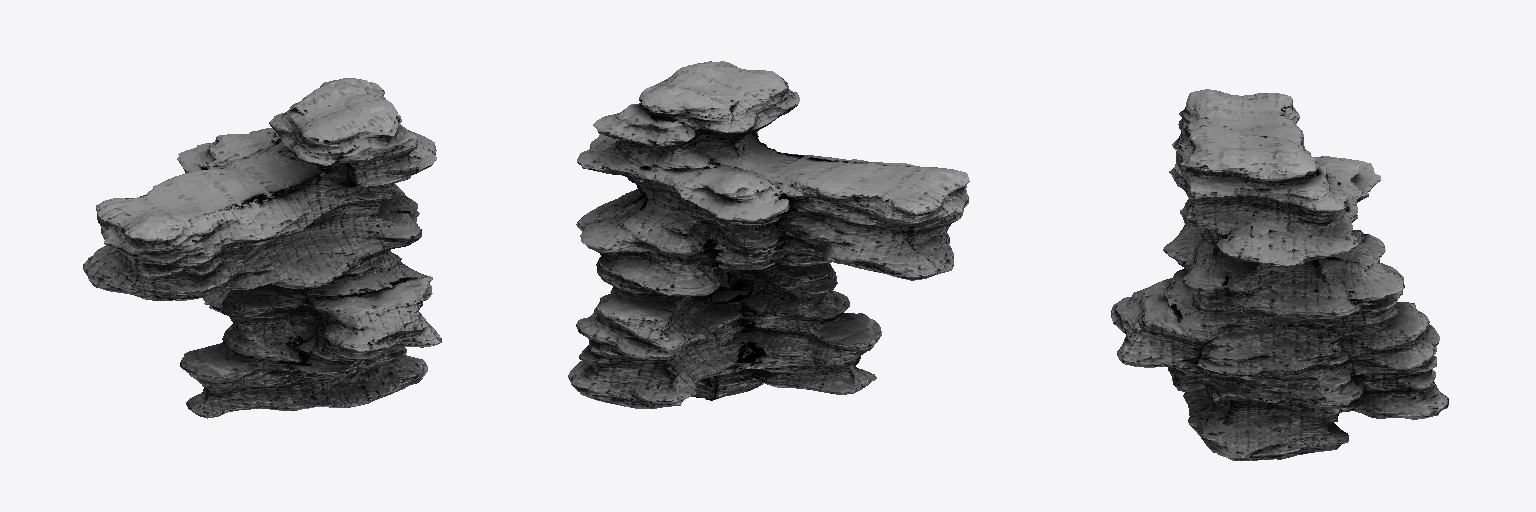
3 views of the same model, side by side, from view 1: azimuth 30°, elevation 25°; view 2: azimuth 150°, elevation 25°; view 3: azimuth 270°, elevation 25° (orthographic).
Visible parts, largest first — view 1: pn_bmk_rock_low_poly.002_Cube.015; view 2: pn_bmk_rock_low_poly.002_Cube.015; view 3: pn_bmk_rock_low_poly.002_Cube.015.
Part boxes in pixels (x1,y1,x2,y2): pn_bmk_rock_low_poly.002_Cube.015: (83, 78, 441, 418); pn_bmk_rock_low_poly.002_Cube.015: (568, 61, 969, 408); pn_bmk_rock_low_poly.002_Cube.015: (1111, 89, 1448, 460).
Bounding box in the file's own units: 2.53 × 2.06 × 2.14.
1 materials, 1 textured.